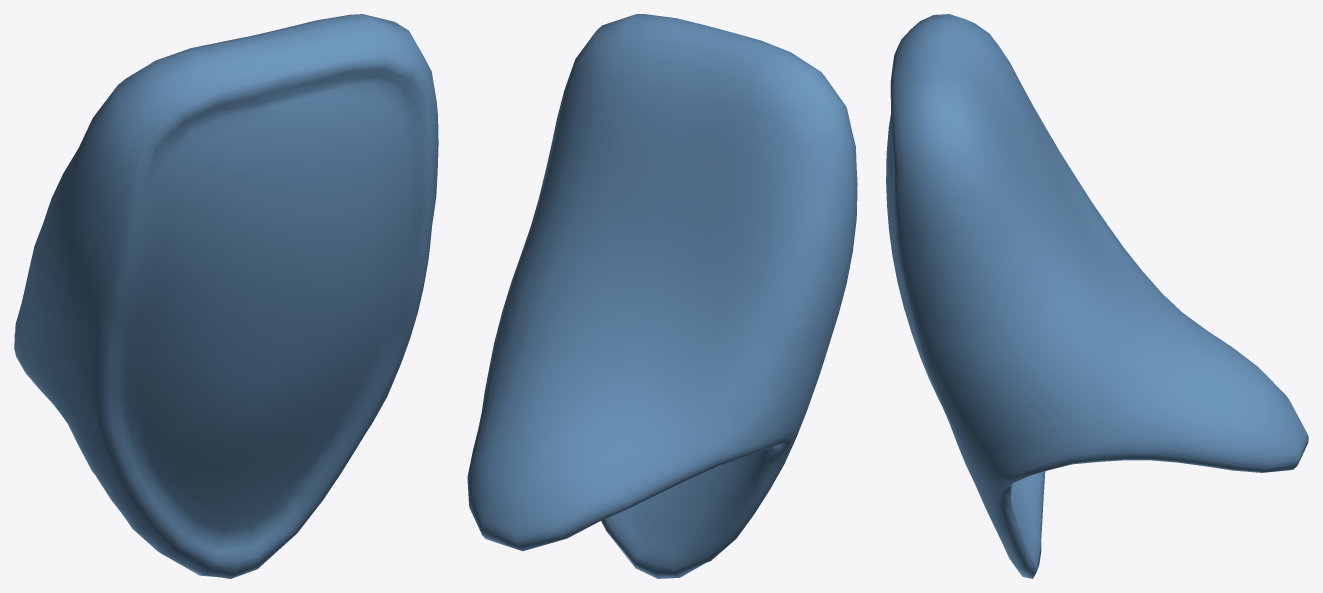
Rendered from BL1_Enamel_Prongs.001 2.glb.
The picture shows the model from 3 angles, left to right: view 1: azimuth 30°, elevation 25°; view 2: azimuth 150°, elevation 25°; view 3: azimuth 270°, elevation 25°; orthographic projection. The views are drawn at different scales.
Visible parts, largest first — view 1: BL1_Enamel_Prongs.001; view 2: BL1_Enamel_Prongs.001; view 3: BL1_Enamel_Prongs.001.
Boxes of the visible parts, x1,y1,x2,y2 form: BL1_Enamel_Prongs.001: [14, 14, 438, 578]; BL1_Enamel_Prongs.001: [467, 14, 857, 578]; BL1_Enamel_Prongs.001: [886, 14, 1308, 578].
Size of the model in its own units: 0.6475 by 1.01 by 0.7481.
